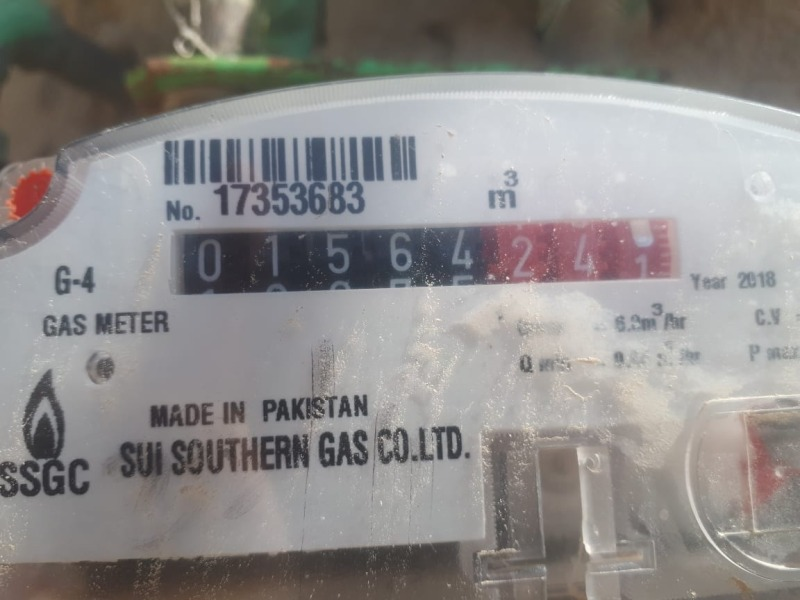ssgc: (163, 217, 681, 290)
